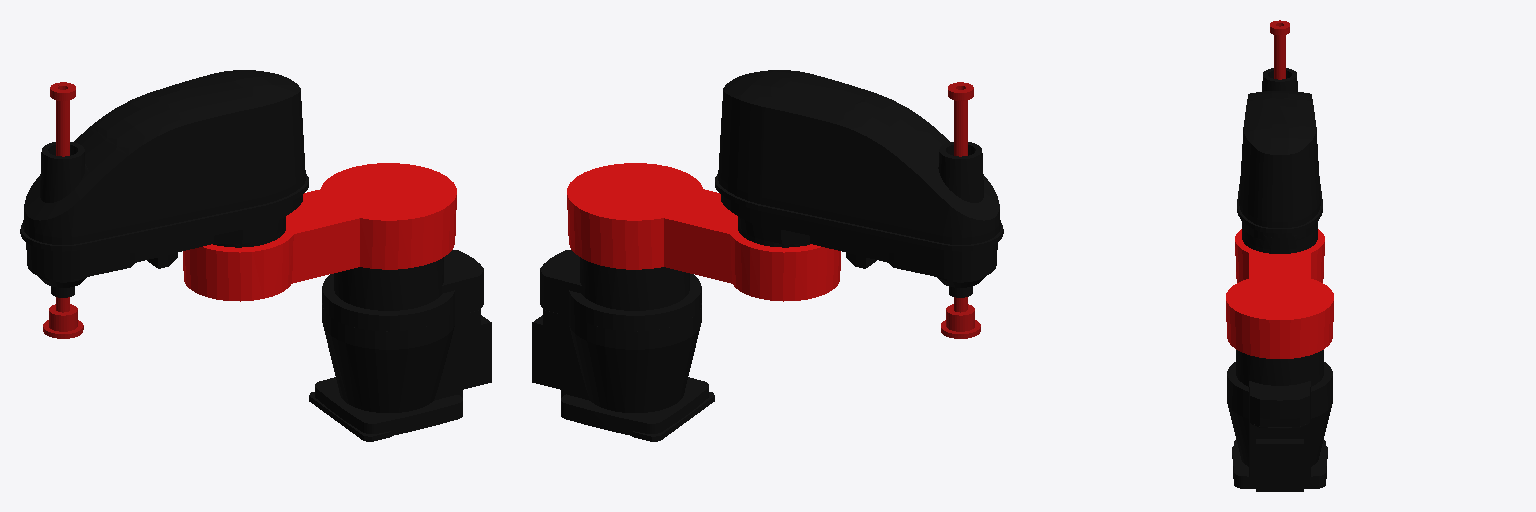
robot.urdf — sr_scara_hx:
<?xml version="1.0"?>
<robot name="sr_scara_hx">

<!--Links -->
<link name="base_link">
 <visual>
  <origin xyz="0 0 0.00158925" rpy="0 0 0" />
   <geometry>
     <mesh filename="package://robot_simulation/meshes/base_R01.stl" scale="0.001 0.001 0.001"/>  
   </geometry>
   <material name="black">
     <color rgba="0.1 0.1 0.1 1"/>
   </material>
 </visual>
 <collision>
  <origin xyz="0 0 0.00158925" rpy="0 0 0" />
   <geometry>
     <mesh filename="package://robot_simulation/meshes/base_R01.stl" scale="0.001 0.001 0.001"/>  
   </geometry>
 </collision>  
</link>

<link name="link1">
 <visual>
  <origin xyz="0 0 0" rpy="0 0 0" />
   <geometry>
     <mesh filename="package://robot_simulation/meshes/arm_link_R01.stl" scale="0.001 0.001 0.001"/>  
   </geometry>
   <material name="red">
     <color rgba="0.9 0.1 0.1 1"/>
   </material>
 </visual>
 <collision>
  <origin xyz="0 0 0" rpy="0 0 0" />
   <geometry>
     <mesh filename="package://robot_simulation/meshes/arm_link_R01.stl" scale="0.001 0.001 0.001"/>  
   </geometry>
 </collision>
</link>

<link name="link2">
 <visual>
  <origin xyz="0.300 0 0" rpy="0 0 0" />
   <geometry>
     <mesh filename="package://robot_simulation/meshes/head_link_R01.stl" scale="0.001 0.001 0.001"/>  
   </geometry>
   <material name="black">
     <color rgba="0.1 0.1 0.1 1"/>
   </material>
 </visual>
 <collision>
  <origin xyz="0.300 0 0" rpy="0 0 0" />
   <geometry>
     <mesh filename="package://robot_simulation/meshes/head_link_R01.stl" scale="0.001 0.001 0.001"/>  
   </geometry>
  </collision>
</link>

<link name="probe">
 <visual>
  <origin xyz="0 0 0" rpy="0 0 0" />
  <geometry>
     <mesh filename="package://robot_simulation/meshes/End_link_R01.stl" scale="0.001 0.001 0.001"/>  
  </geometry>
  <material name="red">
     <color rgba="0.7 0.1 0.1 1"/>
  </material>
 </visual>
 <collision>
  <origin xyz="0 0 0" rpy="0 0 0" />
  <geometry>
     <mesh filename="package://robot_simulation/meshes/End_link_R01.stl" scale="0.001 0.001 0.001"/>  
  </geometry>
 </collision>
</link>


<!-- Joints 
<link name = "gripper_base">
 <visual>
  <origin xyz ="0 0 -0.085" rpy="0 0 0" />
   <geometry>
     <box size="0.06 .02 .01"/>
   </geometry>
 </visual>
</link>
<link name = "gripper_dummy">
 <visual>
  <origin xyz ="0 0 -0.095" rpy="0 0 0" />
   <geometry>
     <box size="0.06 .02 .01"/>
   </geometry>
 </visual>
 </link>>

-->


<!-- Joints -->

<joint name="joint1" type="revolute">
  <axis xyz="0 0 1" /> 
  <limit effort="3.0" velocity="0.01" lower="-2.617" upper="2.617"/>
  <origin xyz="0 0 0.00158925" rpy="0 0 0" />
  <parent link="base_link" />
  <child link="link1" />
</joint>

<joint name="joint2" type="revolute">
 <axis xyz="0 0 1" /> 
 <limit effort="3.0" velocity="0.01" lower="-2.617" upper="2.617"/>
 <origin xyz="-0.3 0 0" rpy="0 0 0" />
 <parent link="link1" />
 <child link="link2" />
</joint>

<joint name="joint3" type="prismatic">
 <axis xyz="0 0 1" /> 
 <limit effort="3.0" velocity="0.01" lower="-0.1" upper="0.05"/>
 <origin xyz="0.3 0 0" rpy="0 0 0" />
 <parent link="link2" />
 <child link="probe" />
</joint>


<!-- Joints 
<joint name ="gripper_con" type="revolute">
 <axis xyz="0 0 1" /> 
 <limit effort="3.0" velocity="0.01" lower="-3" upper="3"/>
 <origin rpy="0 0 0" xyz="0 0 0"/>
 <parent link = "probe"/>
 <child link = "gripper_base" />
</joint>

<joint name ="gripper_dummy" type="fixed">
 <origin rpy="0 0 0" xyz="0 0 0"/>
 <parent link = "gripper_base"/>
 <child link = "gripper_dummy" />
</joint>
-->

<!-- Transmissions -->

  <transmission name="tran1">
    <type>transmission_interface/SimpleTransmission</type>
    <joint name="joint1"/>
    <actuator name="motor1">
      <hardwareInterface>EffortJointInterface</hardwareInterface>
      <mechanicalReduction>1</mechanicalReduction>
    </actuator>
  </transmission>
  <transmission name="tran2">
    <type>transmission_interface/SimpleTransmission</type>
    <joint name="joint2"/>
    <actuator name="motor2">
      <hardwareInterface>EffortJointInterface</hardwareInterface>
      <mechanicalReduction>1</mechanicalReduction>
    </actuator>
  </transmission>
  <transmission name="tran3">
    <type>transmission_interface/SimpleTransmission</type>
    <joint name="joint3"/>
    <actuator name="motor3">
      <hardwareInterface>EffortJointInterface</hardwareInterface>
      <mechanicalReduction>1</mechanicalReduction>
    </actuator>
  </transmission>

</robot> 

--- Render facts (derived) ---
Views: 3 orthographic renders of the robot side by side, from view 1: azimuth 30°, elevation 25°; view 2: azimuth 150°, elevation 25°; view 3: azimuth 270°, elevation 25°.
Model sr_scara_hx with 4 links and 3 joints (2 revolute, 1 prismatic), rooted at base_link, posed every joint at zero.
Visible links, largest first — view 1: link2, base_link, link1, probe; view 2: link2, base_link, link1, probe; view 3: base_link, link2, link1, probe.
Boxes of the visible links, x1=… form: link2: x1=20, y1=70, x2=308, y2=297; base_link: x1=309, y1=250, x2=491, y2=441; link1: x1=183, y1=163, x2=456, y2=301; probe: x1=43, y1=82, x2=83, y2=338; link2: x1=715, y1=70, x2=1003, y2=297; base_link: x1=532, y1=250, x2=714, y2=441; link1: x1=567, y1=163, x2=840, y2=301; probe: x1=941, y1=82, x2=980, y2=338; base_link: x1=1227, y1=350, x2=1332, y2=491; link2: x1=1237, y1=68, x2=1322, y2=253; link1: x1=1226, y1=229, x2=1333, y2=358; probe: x1=1270, y1=20, x2=1289, y2=79.
Bounding box of the posed robot: 0.899 × 0.2366 × 0.763 m (x, y, z).
Meshes: 4 distinct files referenced, 4 mesh visuals loaded (4 binary STL).